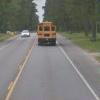Bus: (32, 19, 62, 50)
